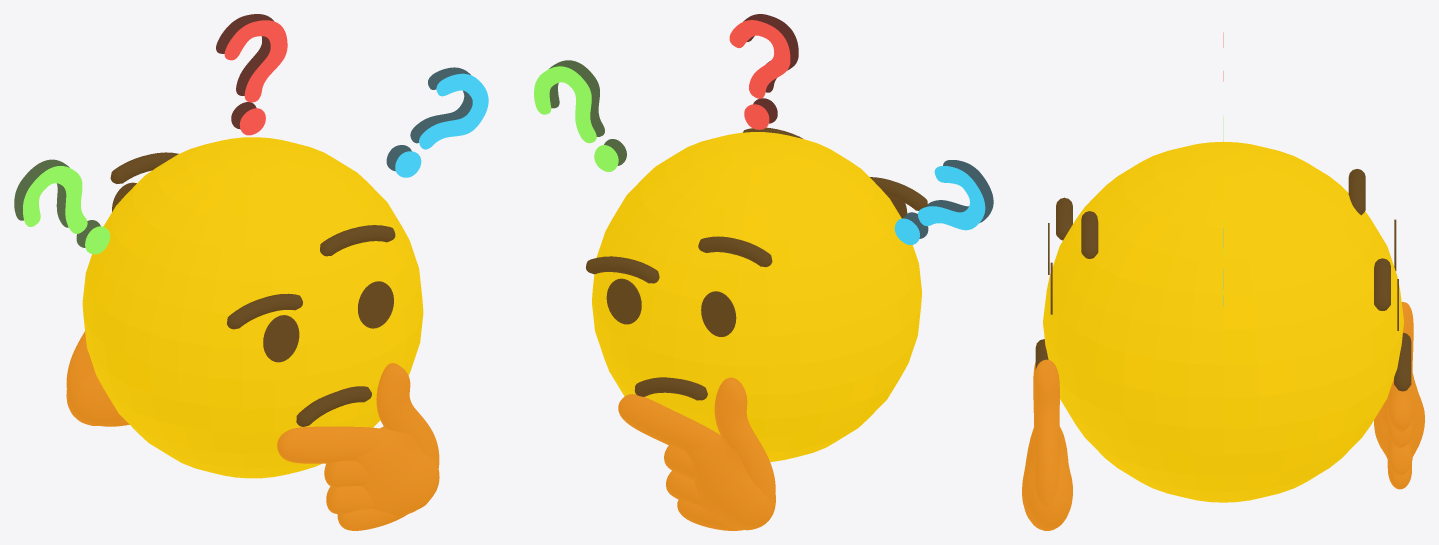
The model's file is 1783457422879_intereessqnte_001.glb.
3 views of the same model, side by side, from view 1: azimuth 30°, elevation 25°; view 2: azimuth 150°, elevation 25°; view 3: azimuth 270°, elevation 25° (orthographic). The views are drawn at different scales.
Parts seen in each view (by area): view 1: Sphere, NurbsCurve.001, Text.004, Text.006, Text.005, NurbsCurve, Circle.003, Circle.004, BézierCurve.005, BézierCurve.004, BézierCurve.003, BézierCurve; view 2: Sphere, NurbsCurve, Text.001, Text.002, Text.003, Circle.001, Circle.002, BézierCurve, BézierCurve.001, BézierCurve.002, BézierCurve.004; view 3: Sphere, NurbsCurve.001, NurbsCurve, BézierCurve.001, BézierCurve.003, BézierCurve.002, BézierCurve, BézierCurve.004.
Part boxes in pixels (x1=…): Sphere: x1=82, y1=137, x2=423, y2=478; NurbsCurve.001: x1=277, y1=363, x2=439, y2=530; Text.004: x1=216, y1=14, x2=287, y2=135; Text.006: x1=386, y1=67, x2=488, y2=177; Text.005: x1=14, y1=159, x2=110, y2=254; NurbsCurve: x1=66, y1=331, x2=129, y2=426; Circle.003: x1=263, y1=315, x2=299, y2=362; Circle.004: x1=358, y1=281, x2=393, y2=328; BézierCurve.005: x1=296, y1=386, x2=371, y2=426; BézierCurve.004: x1=227, y1=293, x2=302, y2=329; BézierCurve.003: x1=320, y1=225, x2=395, y2=256; BézierCurve: x1=110, y1=152, x2=178, y2=183; Sphere: x1=592, y1=132, x2=921, y2=461; NurbsCurve: x1=618, y1=377, x2=775, y2=530; Text.001: x1=534, y1=60, x2=626, y2=171; Text.002: x1=894, y1=160, x2=993, y2=244; Text.003: x1=729, y1=14, x2=798, y2=129; Circle.001: x1=606, y1=278, x2=641, y2=324; Circle.002: x1=701, y1=291, x2=736, y2=336; BézierCurve: x1=698, y1=236, x2=772, y2=267; BézierCurve.001: x1=586, y1=256, x2=659, y2=283; BézierCurve.002: x1=634, y1=377, x2=707, y2=400; BézierCurve.004: x1=870, y1=177, x2=927, y2=210; Sphere: x1=1043, y1=141, x2=1403, y2=502; NurbsCurve.001: x1=1022, y1=359, x2=1072, y2=530; NurbsCurve: x1=1374, y1=302, x2=1424, y2=489; BézierCurve.001: x1=1374, y1=258, x2=1390, y2=310; BézierCurve.003: x1=1081, y1=211, x2=1098, y2=258; BézierCurve.002: x1=1394, y1=332, x2=1411, y2=391; BézierCurve: x1=1348, y1=169, x2=1365, y2=215; BézierCurve.004: x1=1056, y1=197, x2=1072, y2=240.
Bounding box in the file's own units: 3.18 × 2.93 × 2.23.
